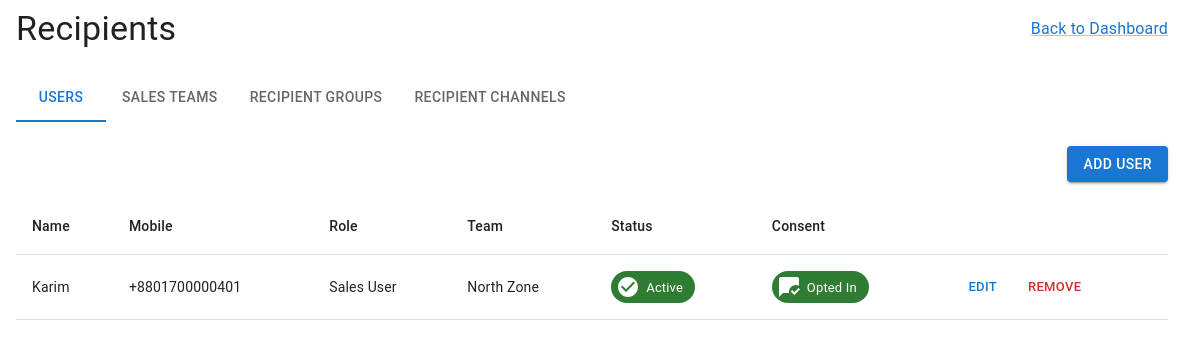
Test case: RecipientsPage › switches to the Recipient Groups tab and renders only group-kind lists from GET /recipient-lists
expect the text "Karim" is shown: met, box [16,255,113,320]
Click the tab "Recipient Groups" at point(316, 98), box [234,74,398,122]
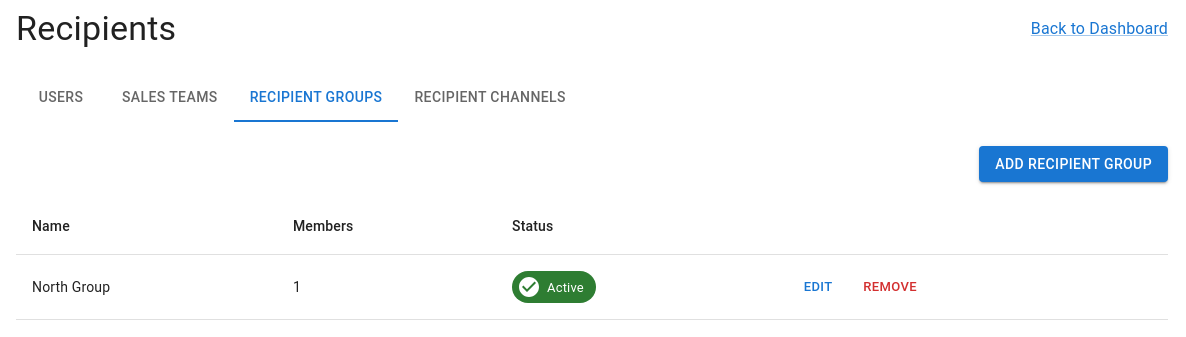
expect the text "North Group" is shown: met, box [16,255,277,320]
